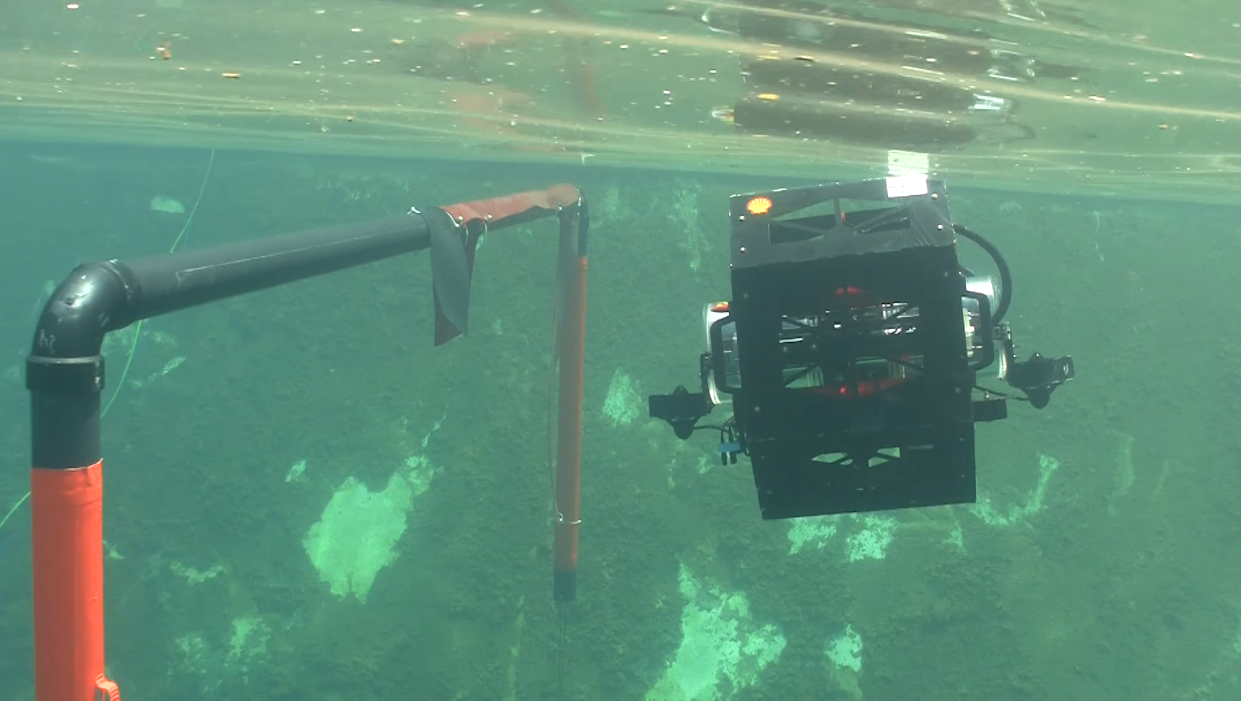gate: (24, 169, 602, 701)
